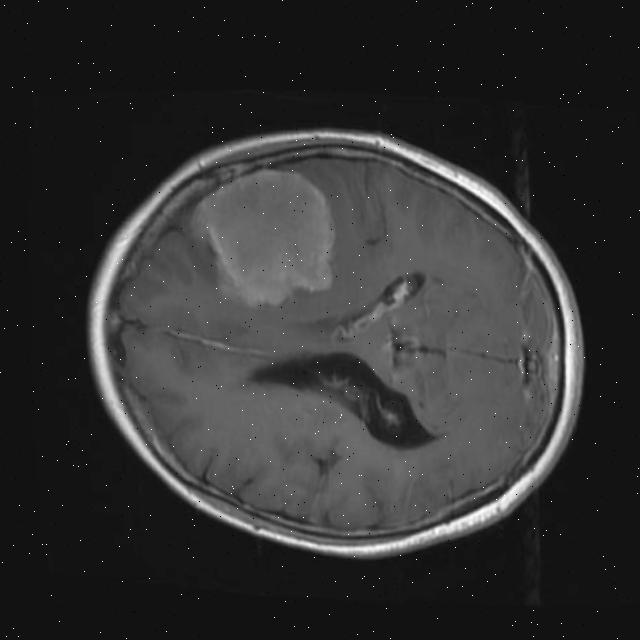Meningioma: (188, 161, 338, 312)
